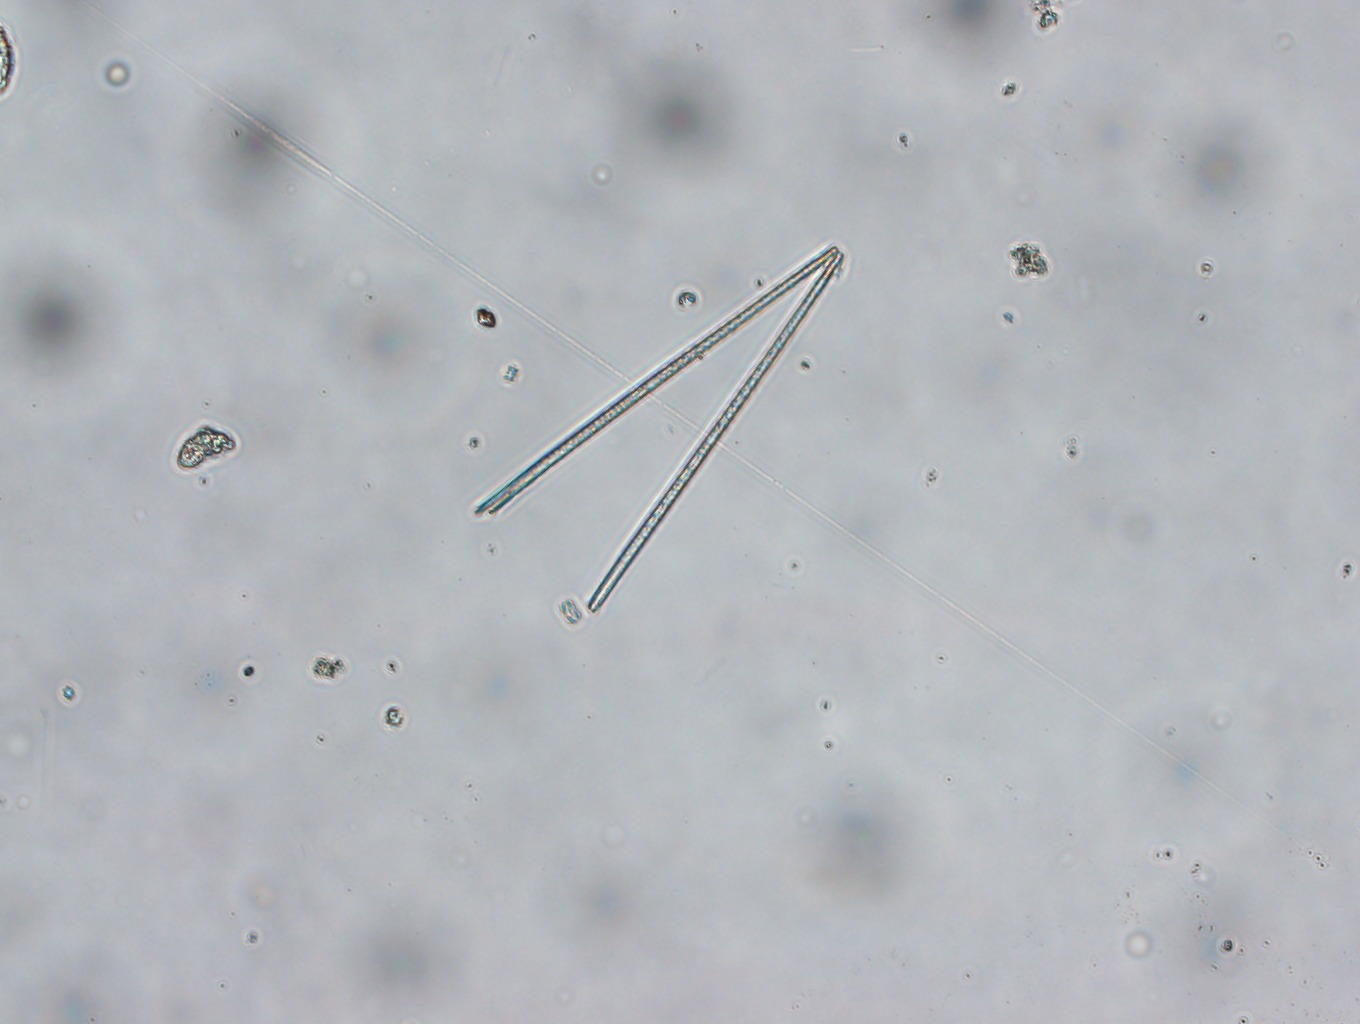thalassionema frauenfeldii: (473, 242, 844, 613)
